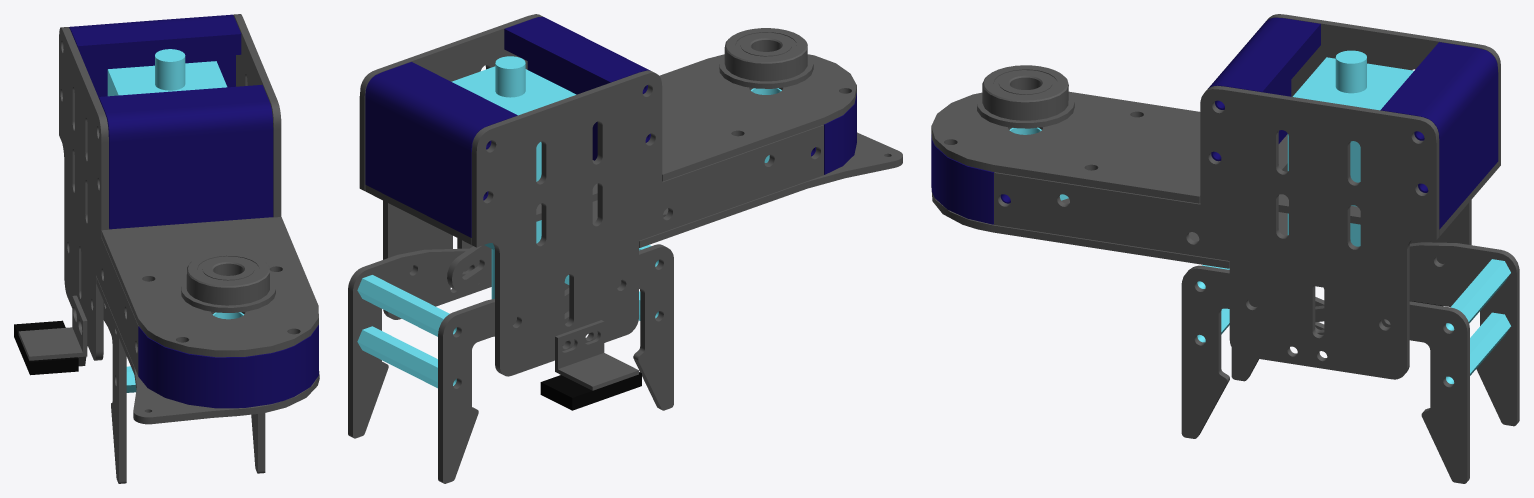
Rendered from StaticMesh1.FBX.
The picture shows the model from 3 angles, left to right: view 1: azimuth 30°, elevation 25°; view 2: azimuth 150°, elevation 25°; view 3: azimuth 270°, elevation 25°; orthographic projection. The views are drawn at different scales.
Visible parts, largest first — view 1: StaticMesh1; view 2: StaticMesh1; view 3: StaticMesh1.
Boxes of the visible parts, box(x1,y1,x2,y2) form: StaticMesh1: box(14, 14, 319, 483); StaticMesh1: box(348, 14, 902, 483); StaticMesh1: box(931, 14, 1519, 483).
Size of the model in its own units: 9.83 by 14.97 by 10.48.
